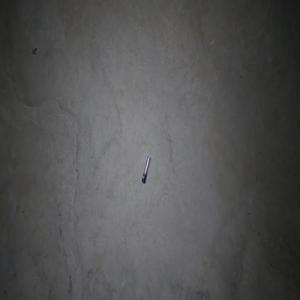Battery: (141, 155, 151, 184)
